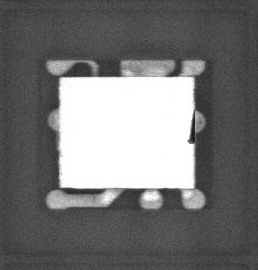DIE_BROKEN: (187, 108, 198, 147)
